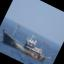fishing boat: (0, 15, 59, 64)
